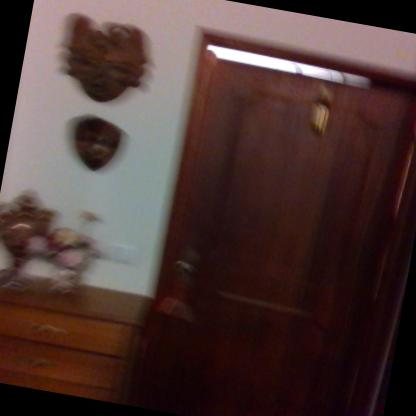closed: (119, 13, 415, 415)
